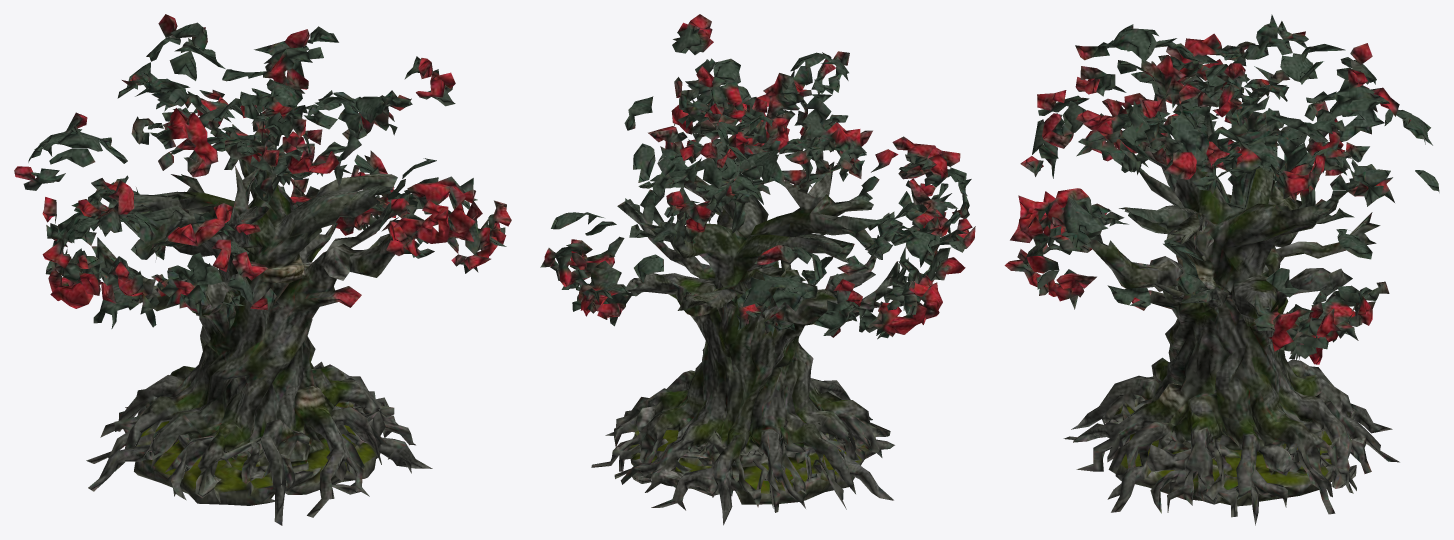
The model's file is ashoka-great.glb.
The picture shows the model from 3 angles, left to right: view 1: azimuth 30°, elevation 25°; view 2: azimuth 150°, elevation 25°; view 3: azimuth 270°, elevation 25°; orthographic projection. The views are drawn at different scales.
Parts seen in each view (by area): view 1: ashoka-great; view 2: ashoka-great; view 3: ashoka-great.
Boxes of the visible parts, bbox=[...] form: ashoka-great: bbox=[14, 14, 511, 525]; ashoka-great: bbox=[540, 14, 975, 525]; ashoka-great: bbox=[1004, 14, 1439, 525].
Size of the model in its own units: 0.8858 by 0.9 by 0.8462.
1 material, 1 textured.
